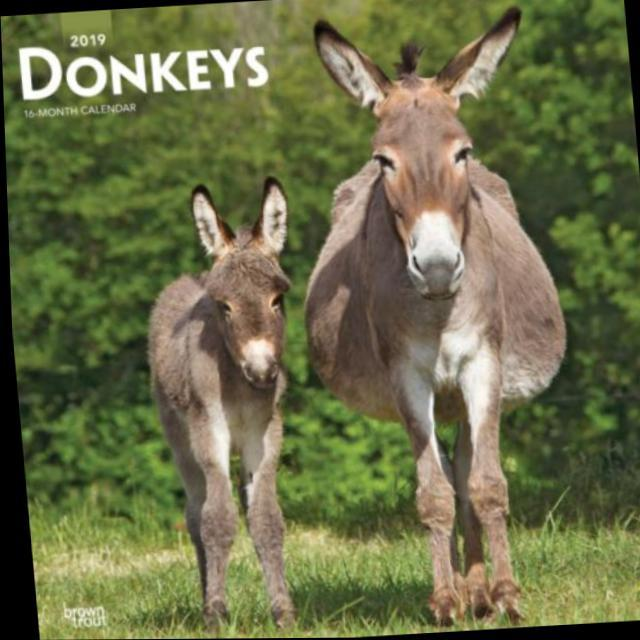Donkey: (276, 2, 586, 638), (136, 175, 322, 639)
